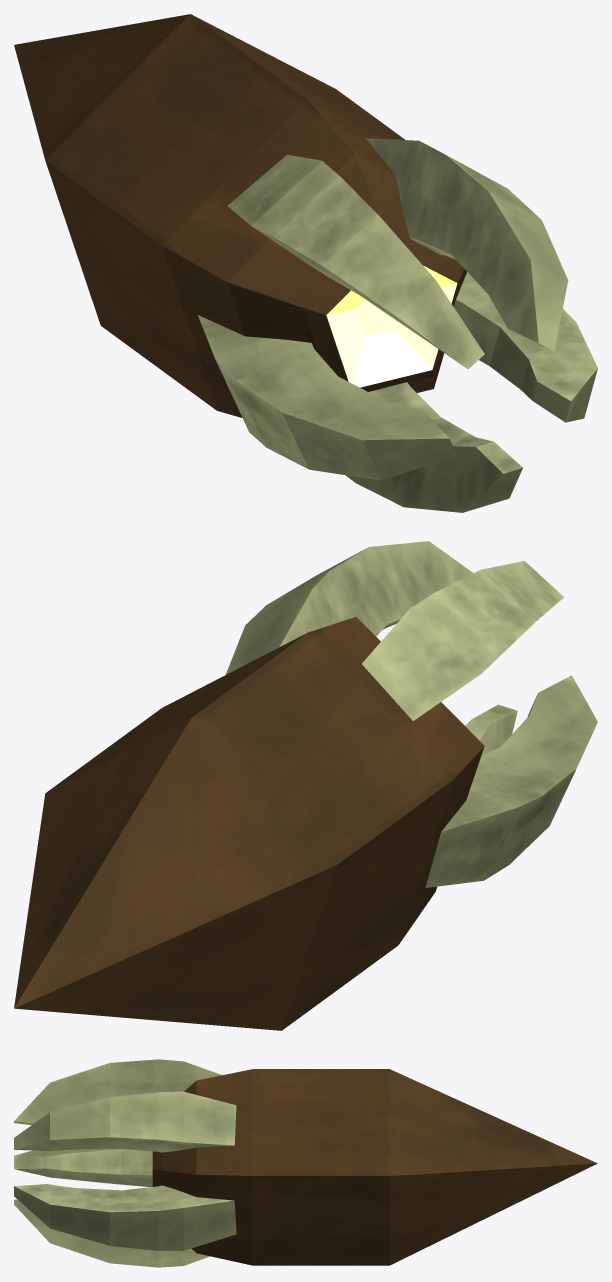
The model's file is machineGunProjectile.fbx.
3 views of the same model, one above another, from view 1: azimuth 30°, elevation 25°; view 2: azimuth 150°, elevation 25°; view 3: azimuth 270°, elevation 25° (orthographic). The views are drawn at different scales.
Visible parts, largest first — view 1: Cone, Cube.003, Cube.002, Cube.001, Cube.005, Cube.004; view 2: Cone, Cube.003, Cube.002, Cube.001, Cube.004; view 3: Cone, Cube.005, Cube.001, Cube.002, Cube.003, Cube.004.
Boxes of the visible parts, box(x1,y1,x2,y2) form: Cone: box(14, 14, 466, 417); Cube.003: box(198, 315, 457, 480); Cube.002: box(227, 155, 484, 369); Cube.001: box(366, 138, 568, 351); Cube.005: box(454, 272, 597, 422); Cube.004: box(346, 382, 522, 512); Cone: box(14, 617, 484, 1030); Cube.003: box(425, 675, 597, 887); Cube.002: box(362, 561, 563, 720); Cube.001: box(225, 541, 473, 674); Cube.004: box(465, 704, 517, 755); Cone: box(152, 1069, 597, 1265); Cube.005: box(14, 1184, 236, 1250); Cube.001: box(14, 1091, 236, 1152); Cube.002: box(14, 1059, 222, 1124); Cube.003: box(14, 1149, 152, 1187); Cube.004: box(14, 1199, 209, 1267).
Size of the model in its own units: 200 by 199 by 561.
3 materials, 2 textured.
